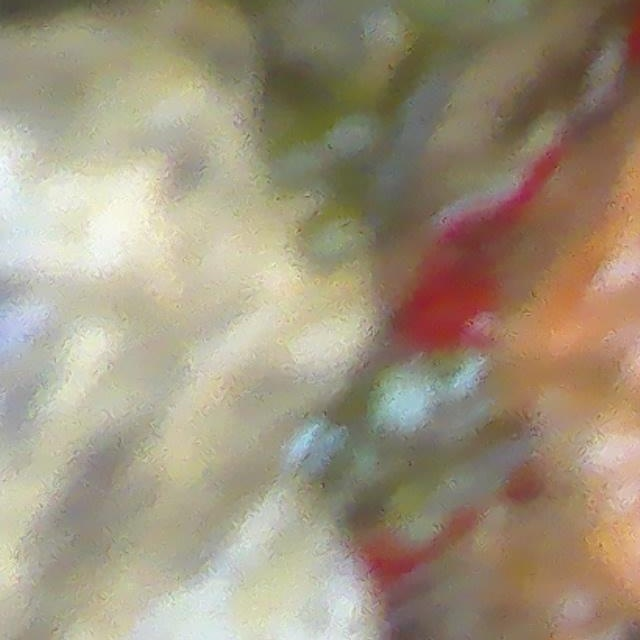SeaGrape: (301, 206, 373, 275)
